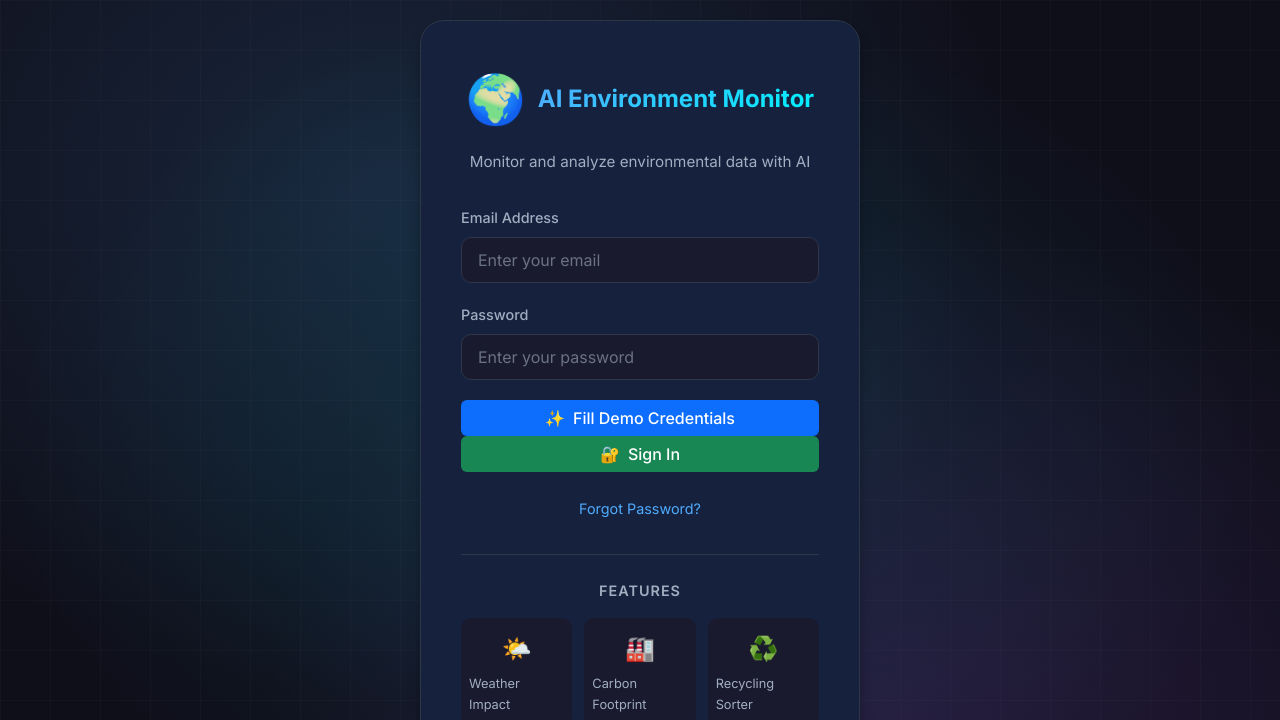
missing demo credentials stay explicit
Click the button "✨ Fill Demo Credentials": {"x": 640, "y": 418} [461,400,819,436]
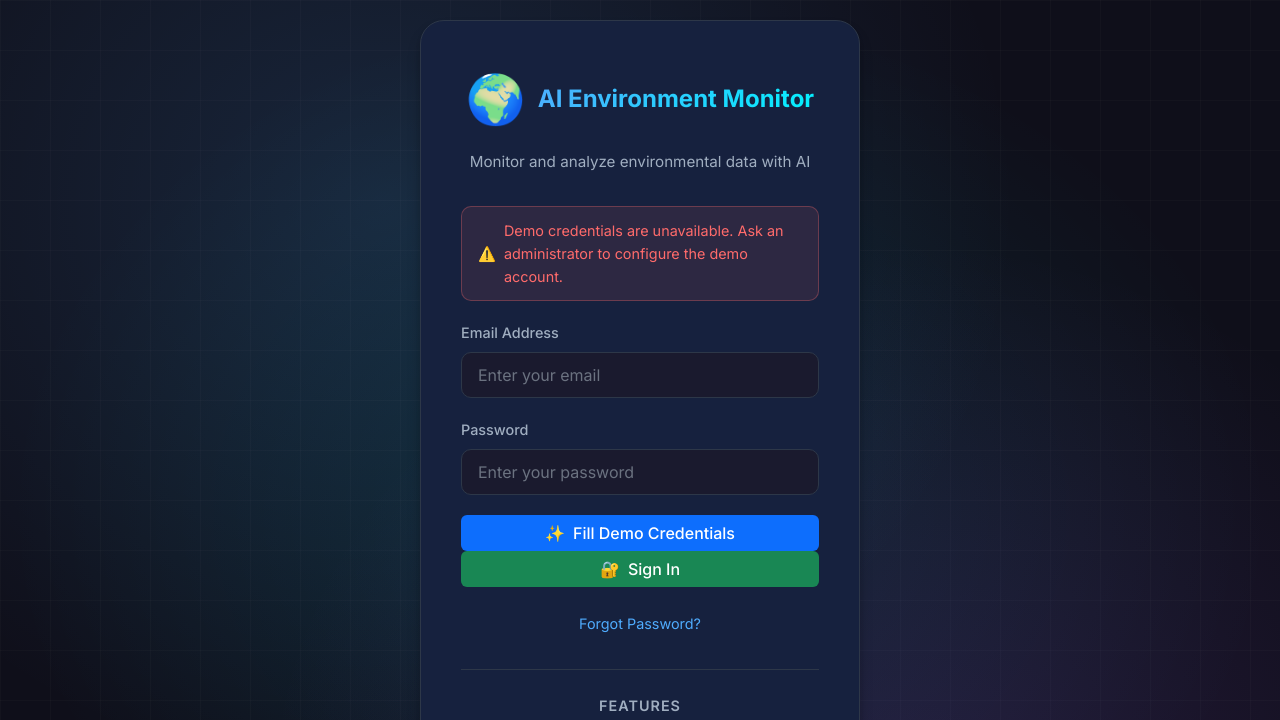
Now the text "Demo credentials are unavailable" is shown, box [504,222,784,285]
